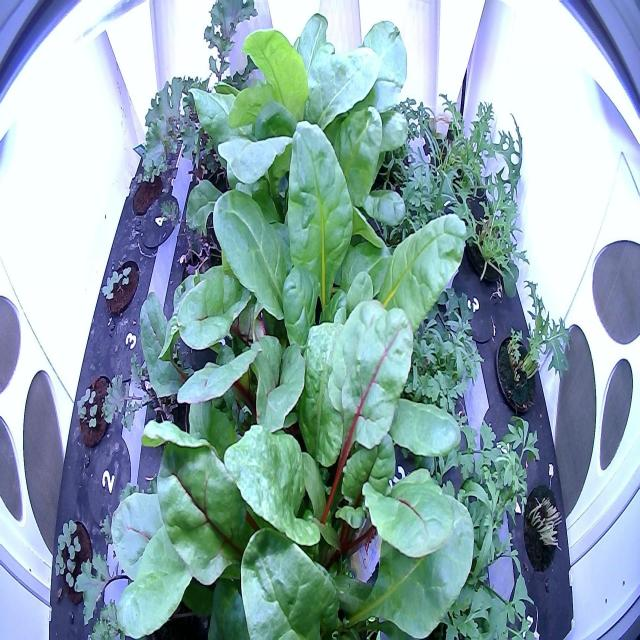germination: (49, 508, 103, 617), (72, 368, 121, 456), (99, 246, 142, 322)
pod: (126, 156, 165, 223)
